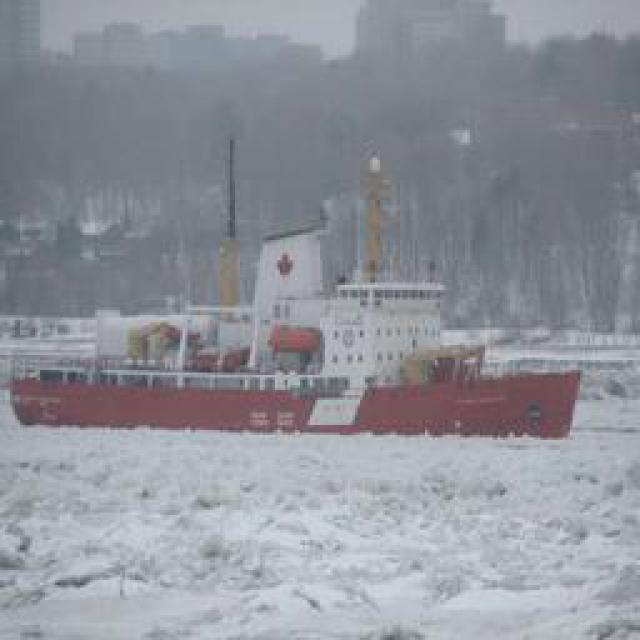Ship: (27, 358, 575, 443)
